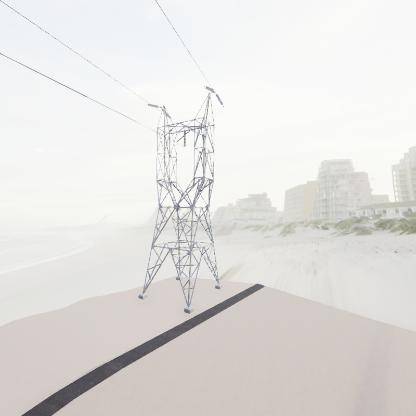tower: (138, 84, 224, 318)
